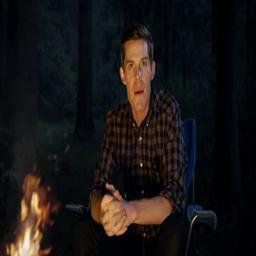fire: (7, 173, 56, 256)
